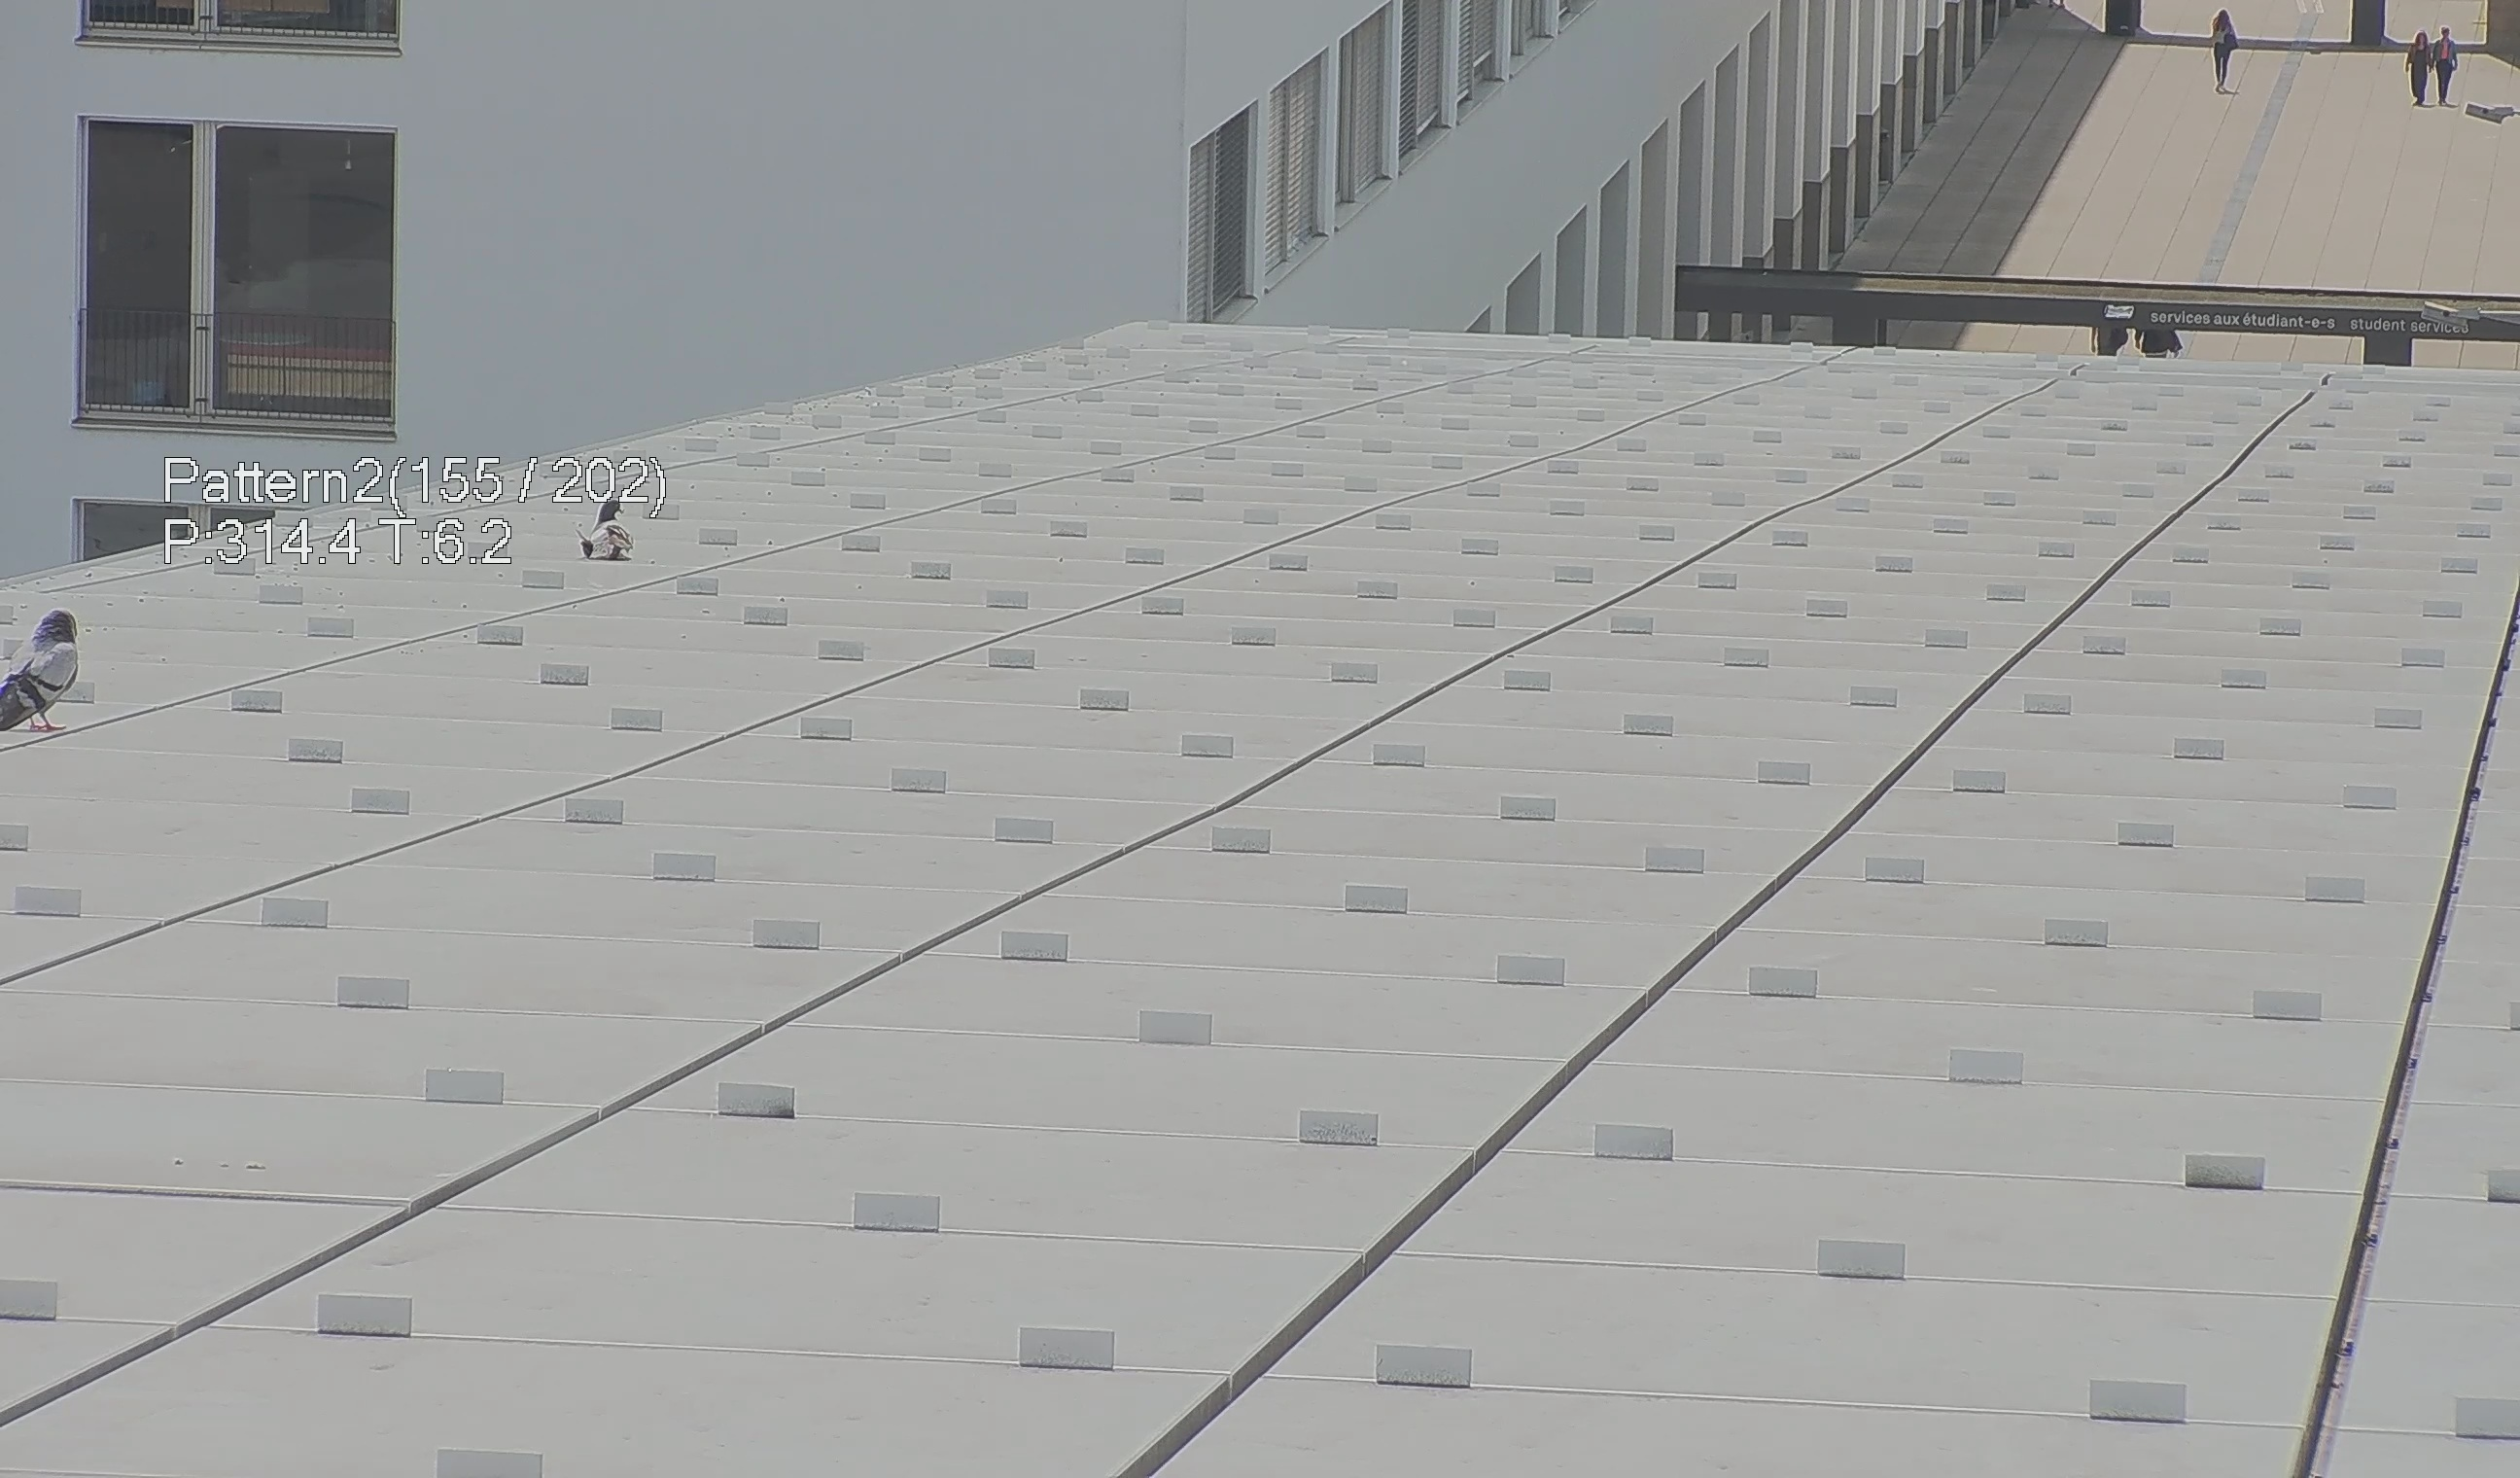Pigeon: (11, 602, 100, 732), (566, 494, 649, 584)
